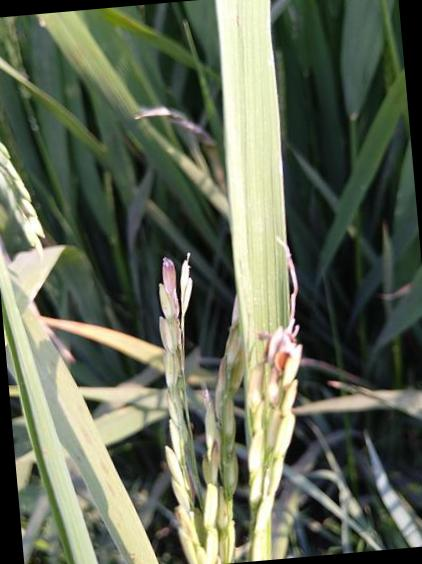Panicle Blight: (247, 322, 302, 417), (154, 257, 192, 351), (200, 390, 222, 487), (179, 433, 195, 507)
